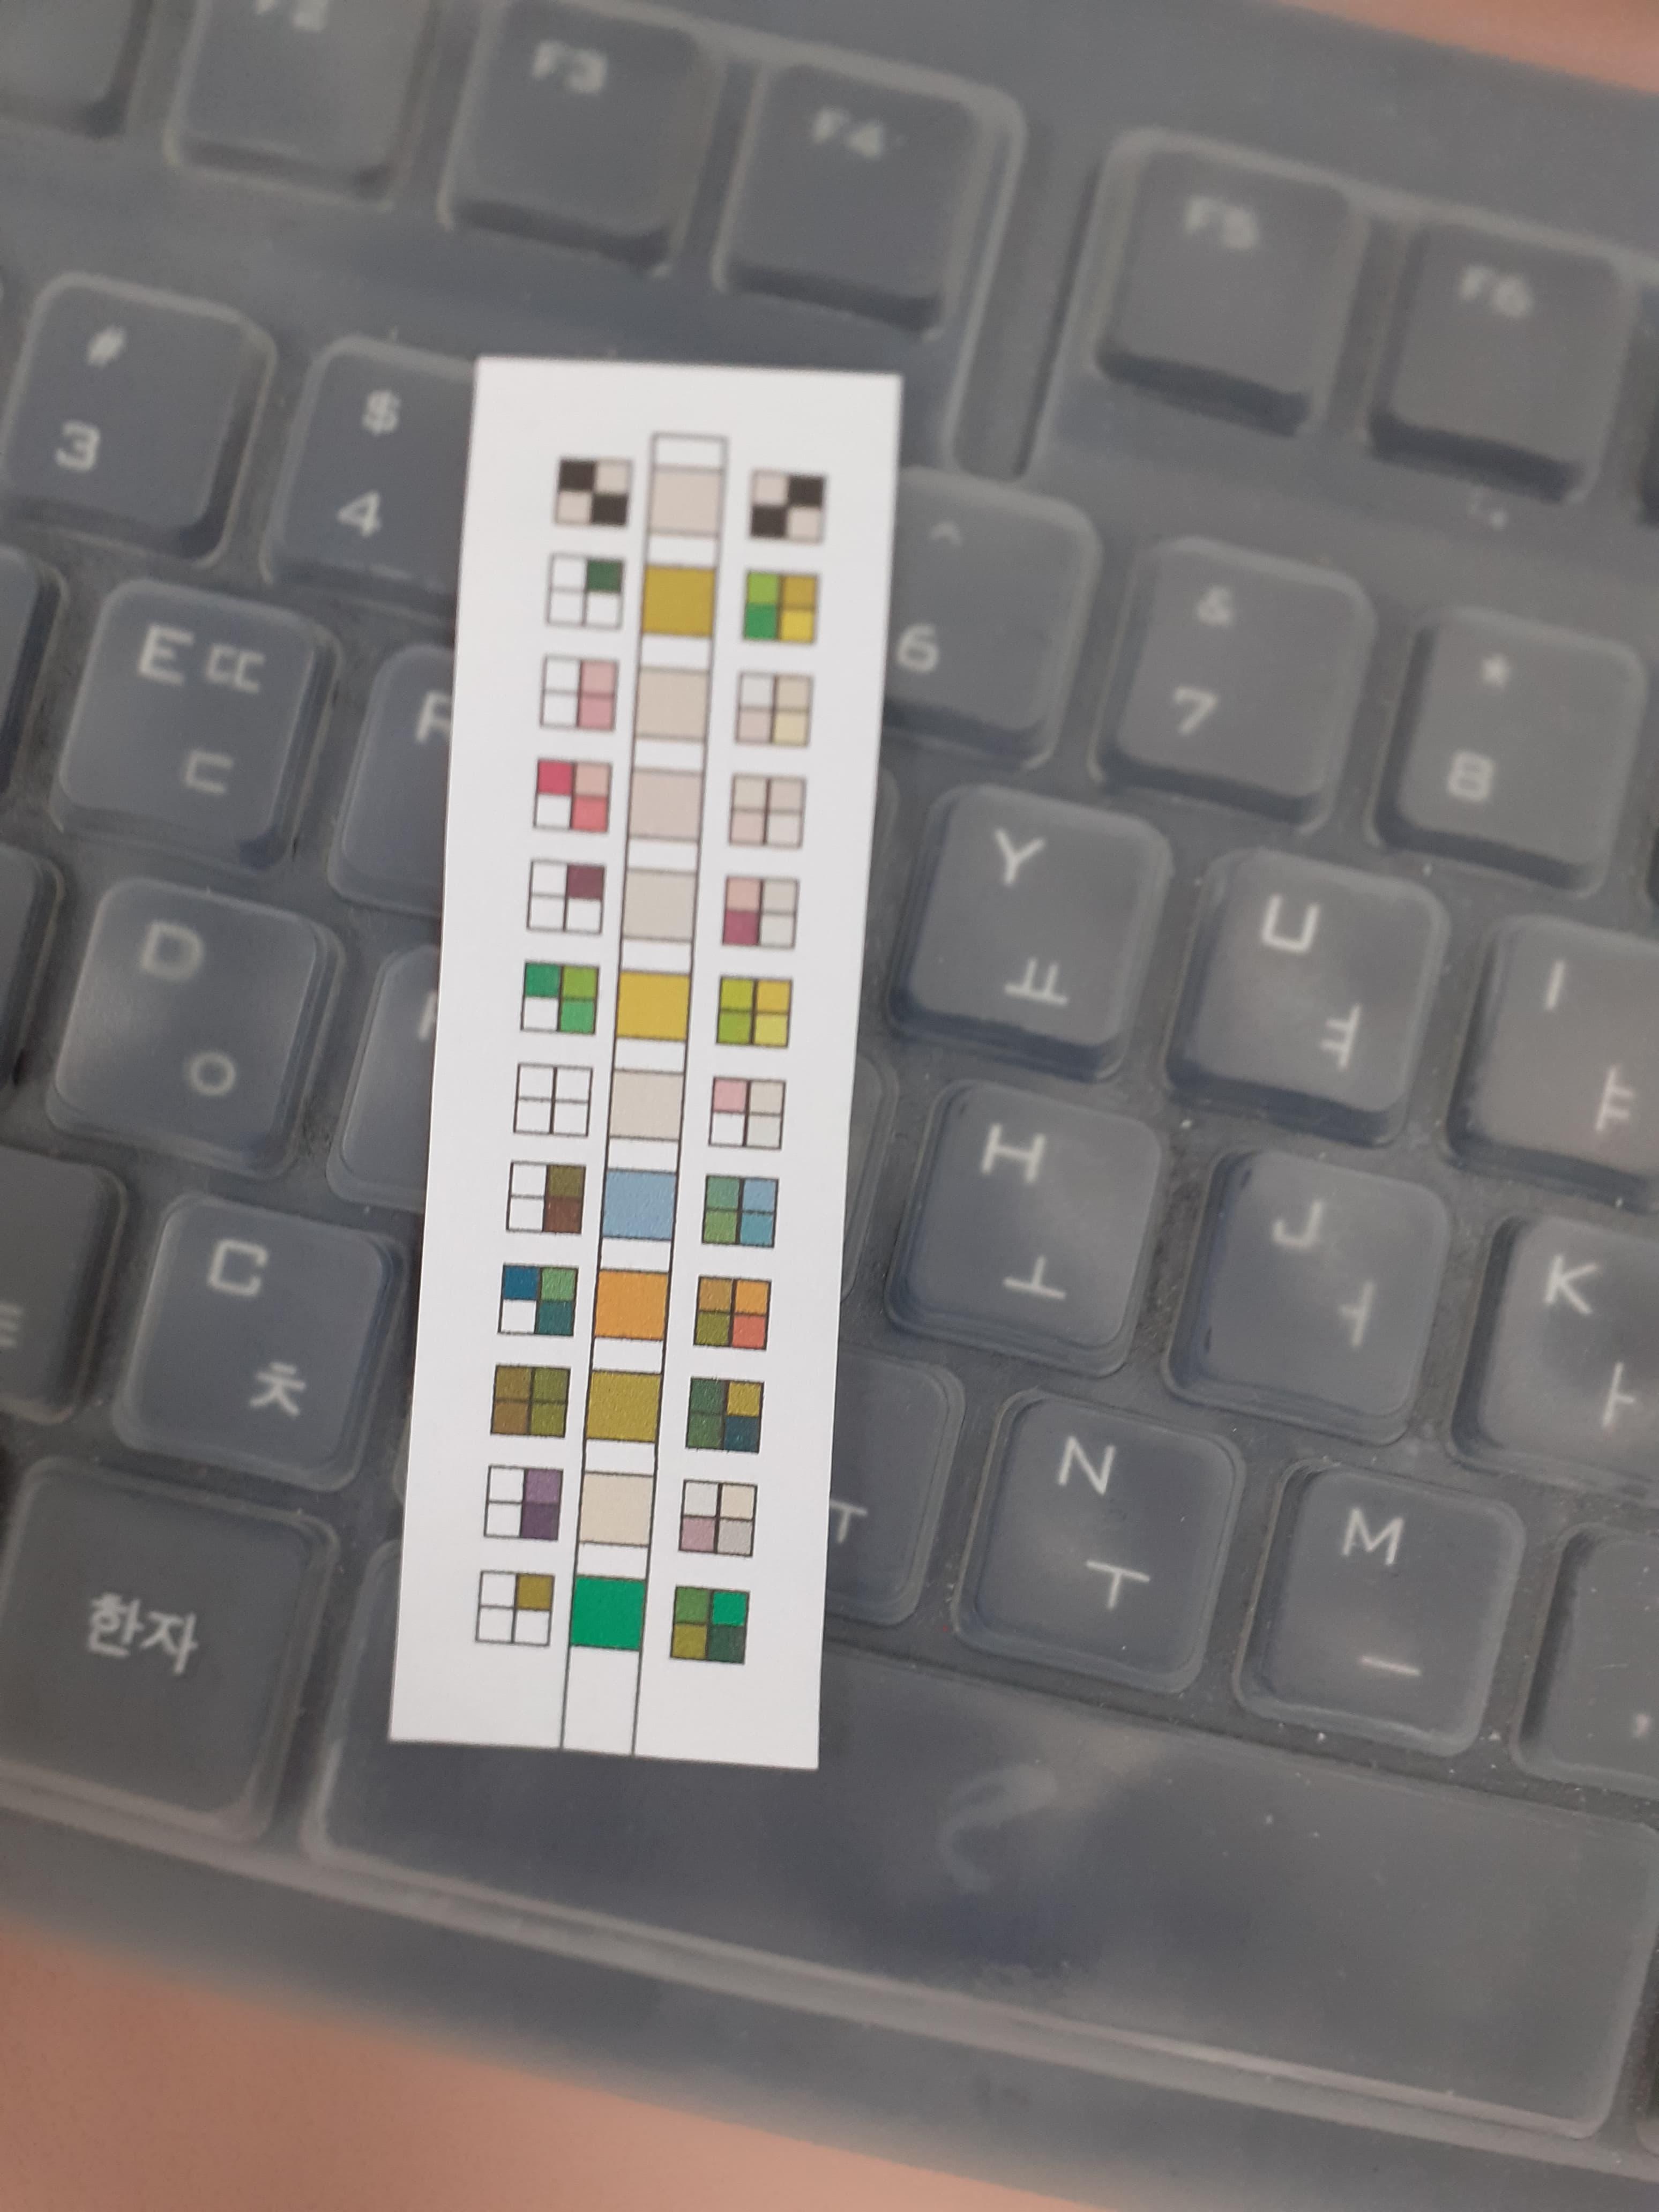tester: (474, 352, 833, 1777)
